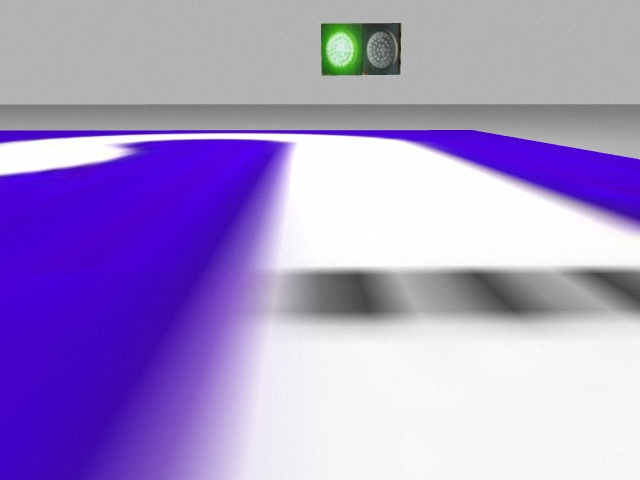green: (322, 23, 364, 73)
